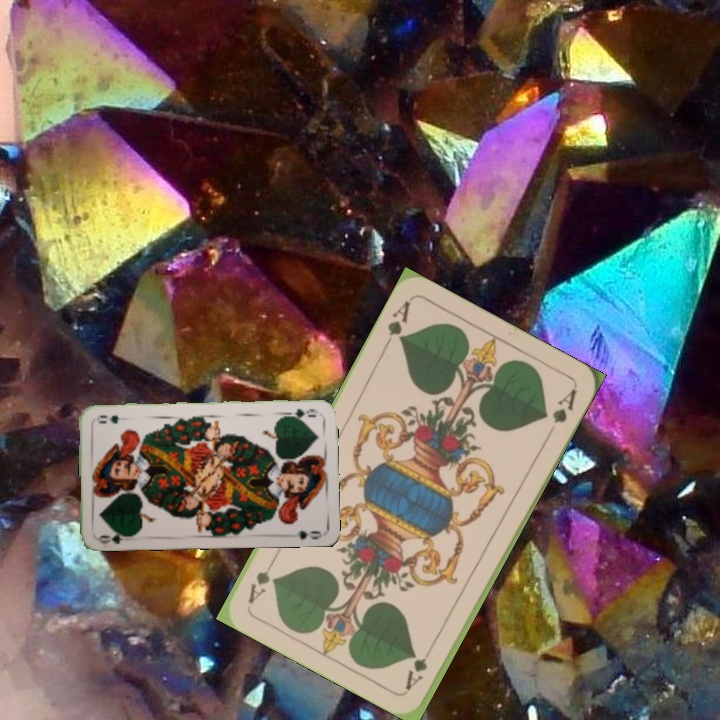GA: (379, 296, 413, 351), (401, 653, 430, 693)
GO: (95, 527, 135, 546), (281, 404, 321, 421)
